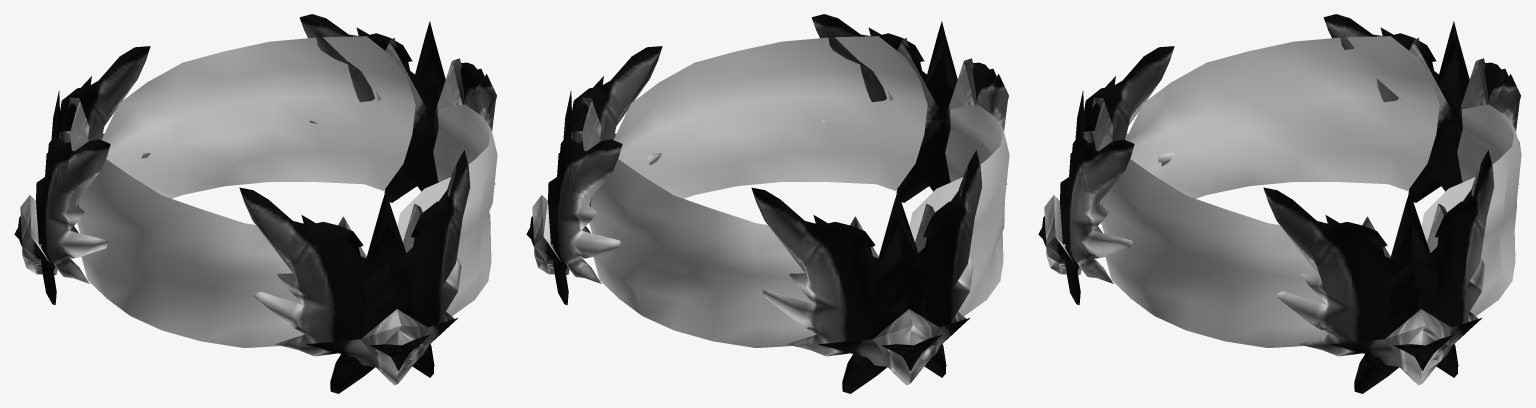
File: dunpai.FBX
The picture shows the model from 3 angles, left to right: view 1: azimuth 30°, elevation 25°; view 2: azimuth 150°, elevation 25°; view 3: azimuth 270°, elevation 25°; orthographic projection.
Parts seen in each view (by area): view 1: dunpai_tuowei, Plane002; view 2: dunpai_tuowei, Plane002; view 3: dunpai_tuowei, Plane002.
Part boxes in pixels (left/top/right/bottom): dunpai_tuowei: left=74, top=36, right=497, bottom=347; Plane002: left=14, top=14, right=496, bottom=393; dunpai_tuowei: left=586, top=36, right=1009, bottom=347; Plane002: left=526, top=14, right=1008, bottom=393; dunpai_tuowei: left=1098, top=36, right=1521, bottom=347; Plane002: left=1038, top=14, right=1520, bottom=393.
Bounding box in the file's own units: 106 × 45.56 × 102.
